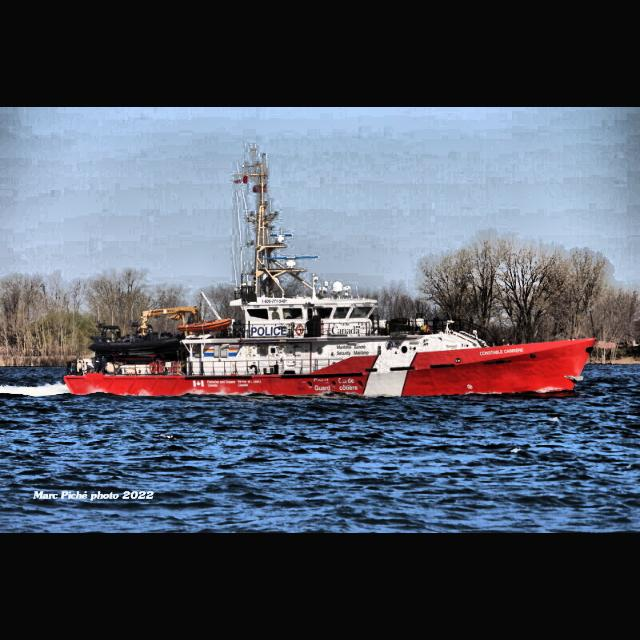patrol_vessel: (62, 266, 602, 400)
